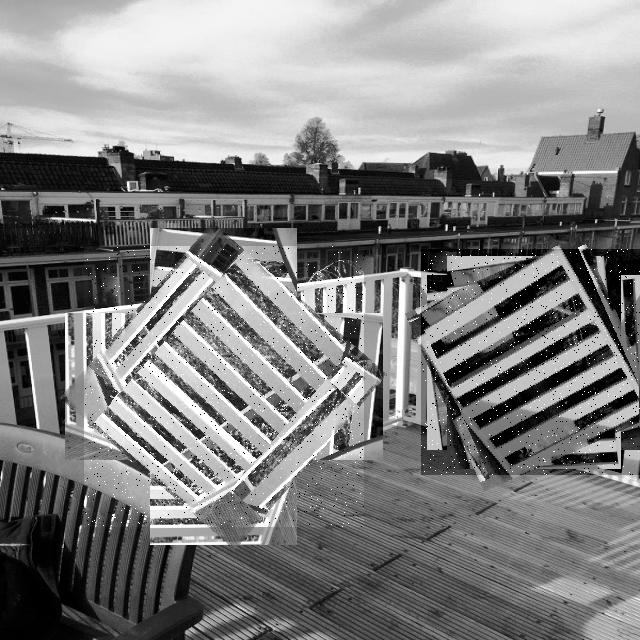fences: (84, 246, 364, 527), (421, 249, 640, 475)
